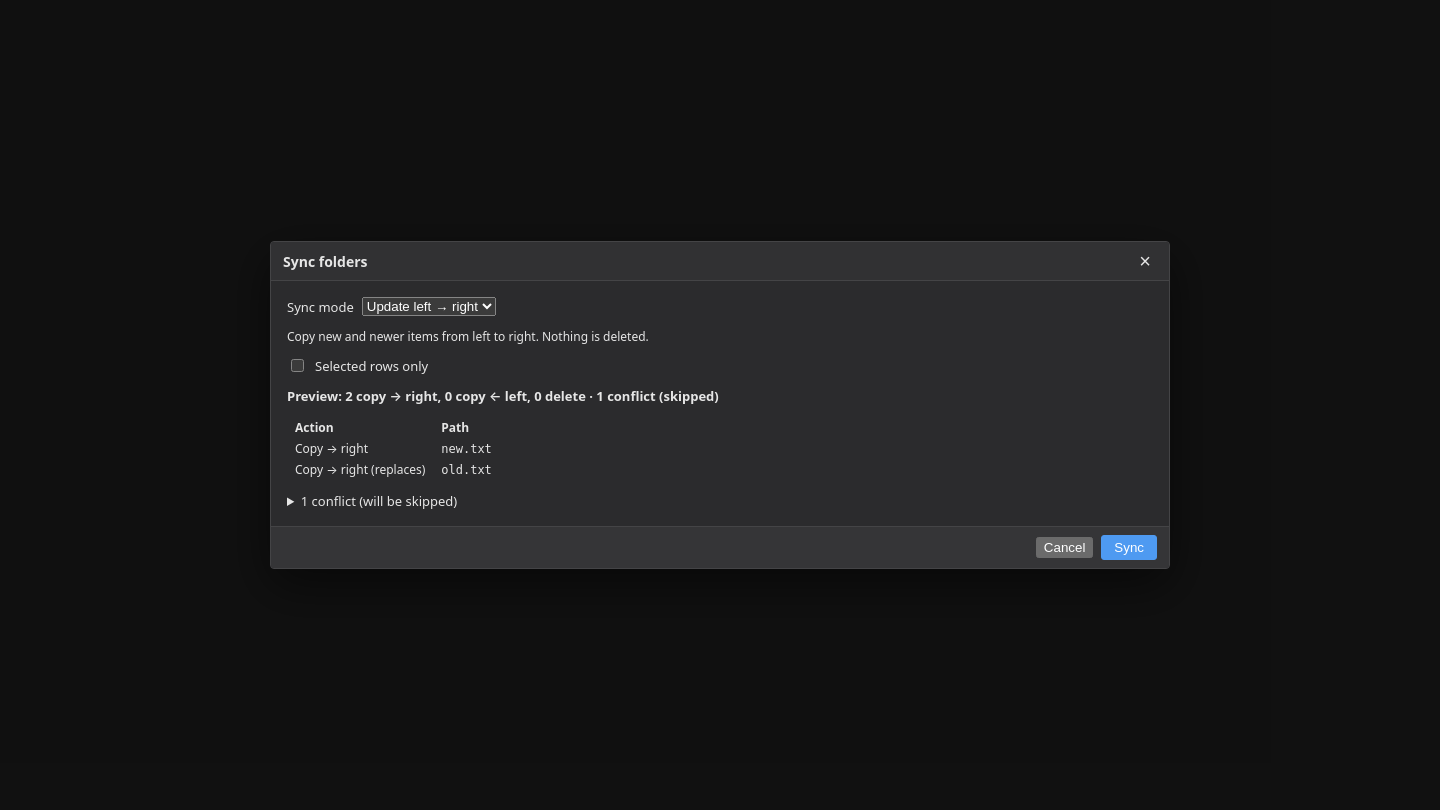
Test: <FolderSyncDialog /> › restricts the plan to the selected rows when asked
Step 1. Click the checkbox labelled "Selected rows only" → (298, 366), box [291, 359, 304, 372]
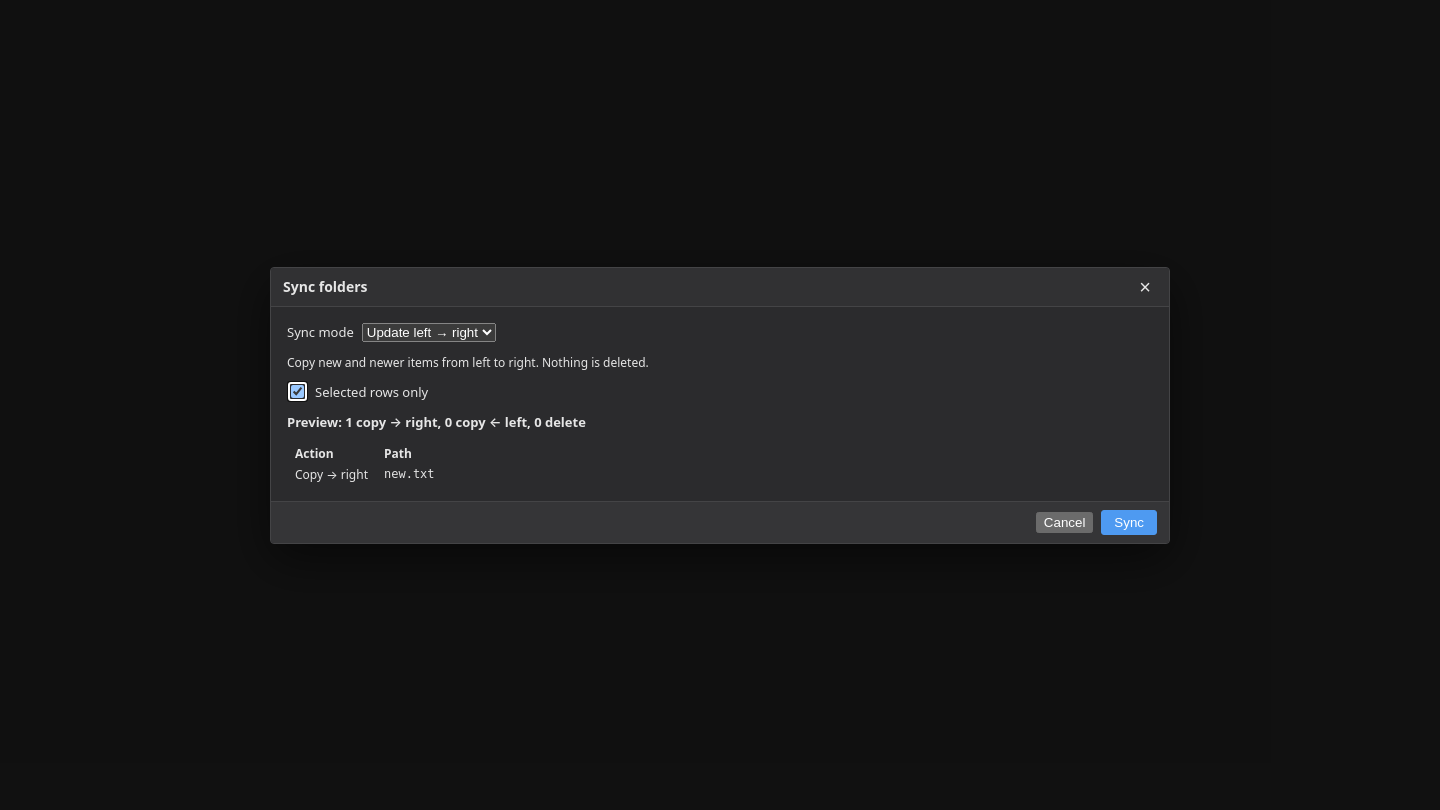
Result: the text "Preview: 1 copy → right, 0 copy ← left, 0 delete" is shown at [287, 412, 586, 430]
Result: the text "old.txt" is gone
